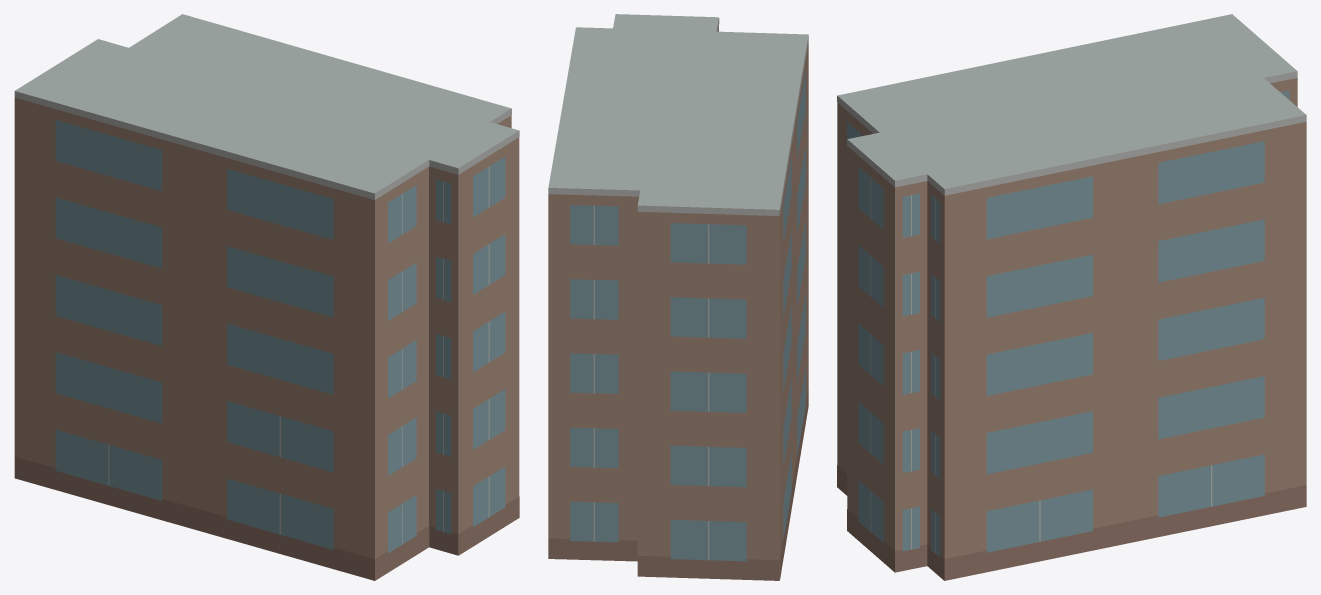
File: survey-upis-32964855.glb
3 renders of one model, left to right at view 1: azimuth 30°, elevation 25°; view 2: azimuth 150°, elevation 25°; view 3: azimuth 270°, elevation 25°, orthographic. The views are drawn at different scales.
Visible parts, largest first — view 1: survey-upis-32964855.tmp; view 2: survey-upis-32964855.tmp; view 3: survey-upis-32964855.tmp.
Boxes of the visible parts, left/top/right/bottom form: survey-upis-32964855.tmp: left=14, top=14, right=519, bottom=580; survey-upis-32964855.tmp: left=548, top=14, right=808, bottom=580; survey-upis-32964855.tmp: left=837, top=14, right=1306, bottom=580.
Size of the model in its own units: 13.92 by 14.5 by 15.76.
